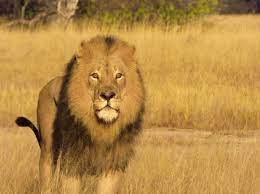lion: (13, 30, 158, 180)
